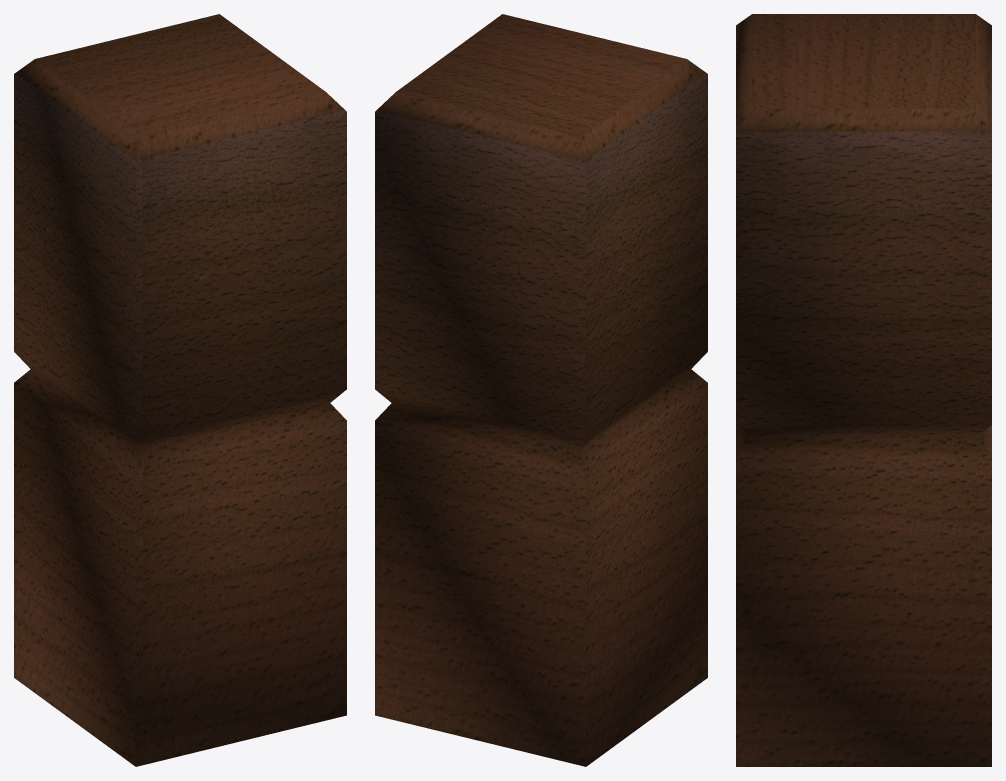
Rendered from Koma_B_L_C2.fbx.
3 views of the same model, side by side, from view 1: azimuth 30°, elevation 25°; view 2: azimuth 150°, elevation 25°; view 3: azimuth 270°, elevation 25° (orthographic). The views are drawn at different scales.
Parts seen in each view (by area): view 1: Koma_B_L_C2; view 2: Koma_B_L_C2; view 3: Koma_B_L_C2.
Part boxes in pixels (left/top/right/bottom): Koma_B_L_C2: left=14, top=14, right=346, bottom=766; Koma_B_L_C2: left=375, top=14, right=707, bottom=766; Koma_B_L_C2: left=736, top=14, right=991, bottom=766.
Bounding box in the file's own units: 1.28 × 3.6 × 1.28.
Materials: 1 (1 with a texture image).
